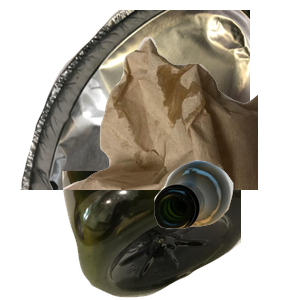glass: (151, 158, 300, 300)
metal: (18, 10, 258, 190)
plastic: (60, 171, 300, 300)
trash: (60, 35, 300, 215)
